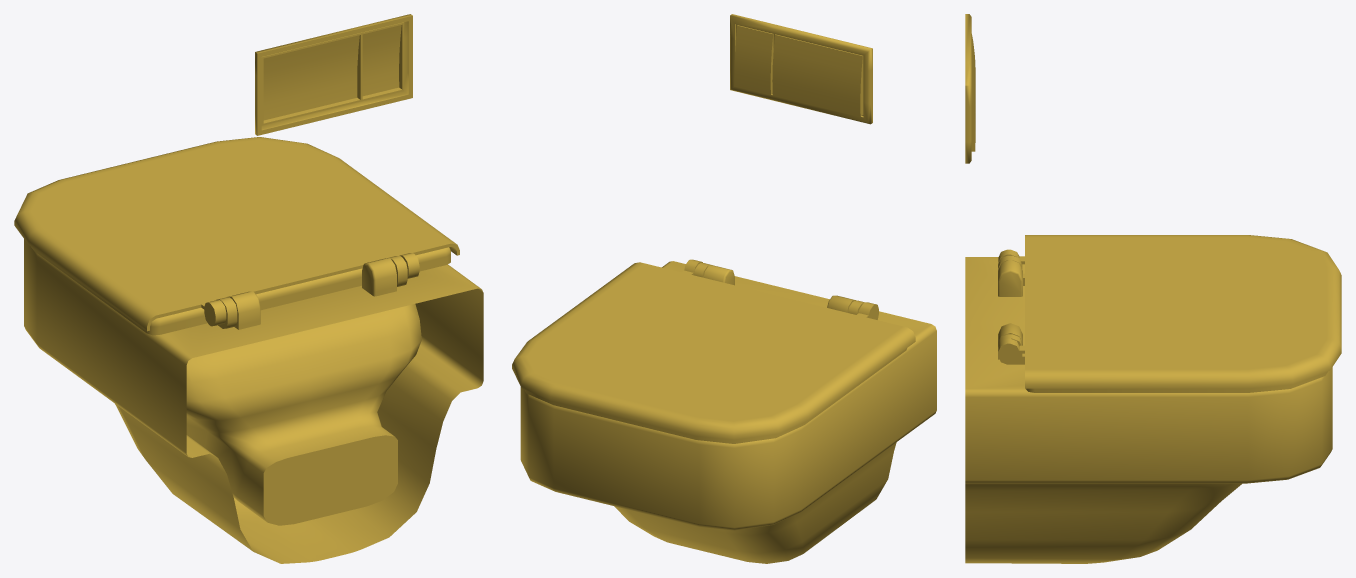
File: Bathroom_WC.fbx
The picture shows the model from 3 angles, left to right: view 1: azimuth 30°, elevation 25°; view 2: azimuth 150°, elevation 25°; view 3: azimuth 270°, elevation 25°; orthographic projection. The views are drawn at different scales.
Parts seen in each view (by area): view 1: SM_WC, SM_WC_Cover, SM_WC_Seat; view 2: SM_WC, SM_WC_Cover, SM_WC_Seat; view 3: SM_WC, SM_WC_Cover, SM_WC_Seat.
Part boxes in pixels (box(x1,y1,x2,y2)): SM_WC: box(24, 14, 483, 563); SM_WC_Cover: box(14, 137, 459, 331); SM_WC_Seat: box(31, 247, 450, 335); SM_WC: box(520, 14, 936, 563); SM_WC_Cover: box(512, 259, 915, 439); SM_WC_Seat: box(524, 263, 906, 443); SM_WC: box(965, 14, 1332, 563); SM_WC_Cover: box(998, 235, 1341, 388); SM_WC_Seat: box(998, 255, 1327, 392).
Size of the model in its own units: 41.19 by 65.64 by 45.34.
